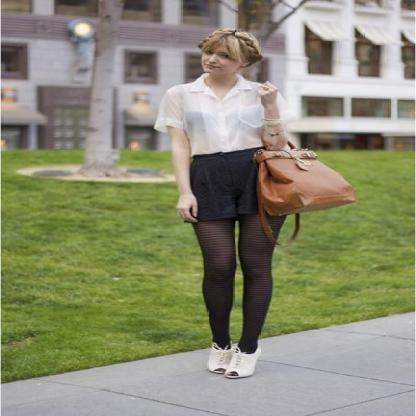bag: (257, 132, 355, 224)
shirt: (154, 75, 303, 153)
shoe: (208, 341, 258, 379)
skirt: (188, 146, 271, 224)
